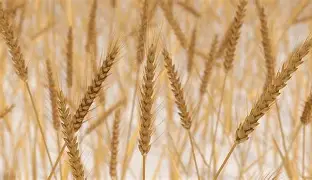crops: (0, 0, 307, 177)
